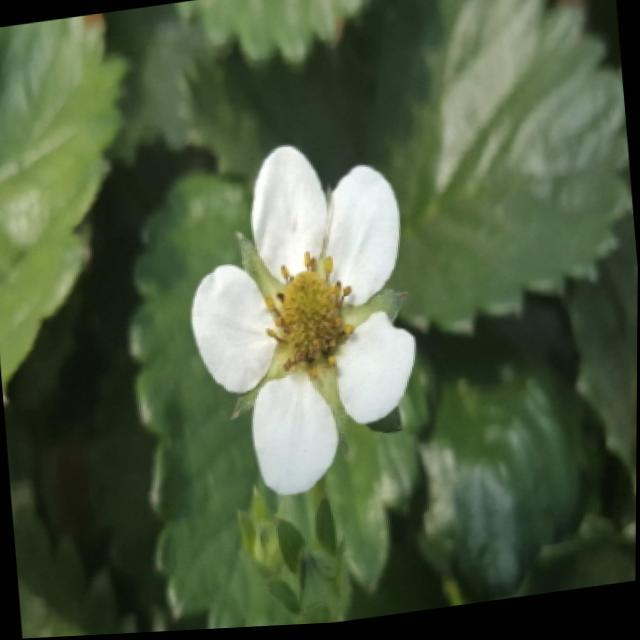Blossom Blight: (263, 249, 358, 382)
